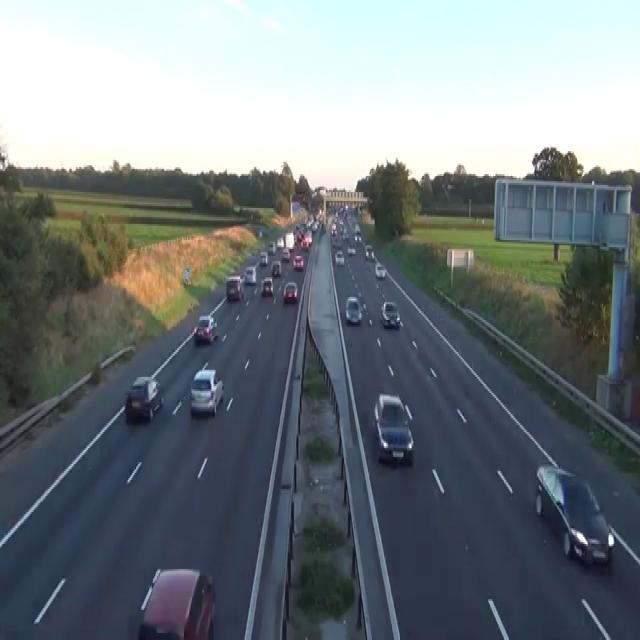Car: (535, 464, 614, 565), (137, 567, 215, 638), (373, 393, 414, 464), (124, 375, 164, 421), (189, 368, 223, 416), (193, 315, 217, 343), (380, 301, 401, 327), (225, 274, 244, 300), (345, 295, 362, 324), (283, 281, 298, 302), (260, 276, 273, 295), (244, 265, 256, 284), (301, 233, 312, 251), (271, 260, 281, 278), (375, 263, 386, 279), (293, 254, 304, 270), (334, 249, 344, 265), (365, 243, 374, 260), (259, 251, 268, 265), (281, 247, 290, 261), (268, 240, 276, 254), (276, 236, 284, 249), (299, 190, 307, 203), (347, 245, 356, 256), (330, 222, 337, 235), (332, 237, 341, 247), (343, 228, 349, 240), (311, 221, 318, 231), (354, 222, 360, 233), (354, 233, 361, 242), (321, 222, 326, 233), (258, 230, 262, 238)
